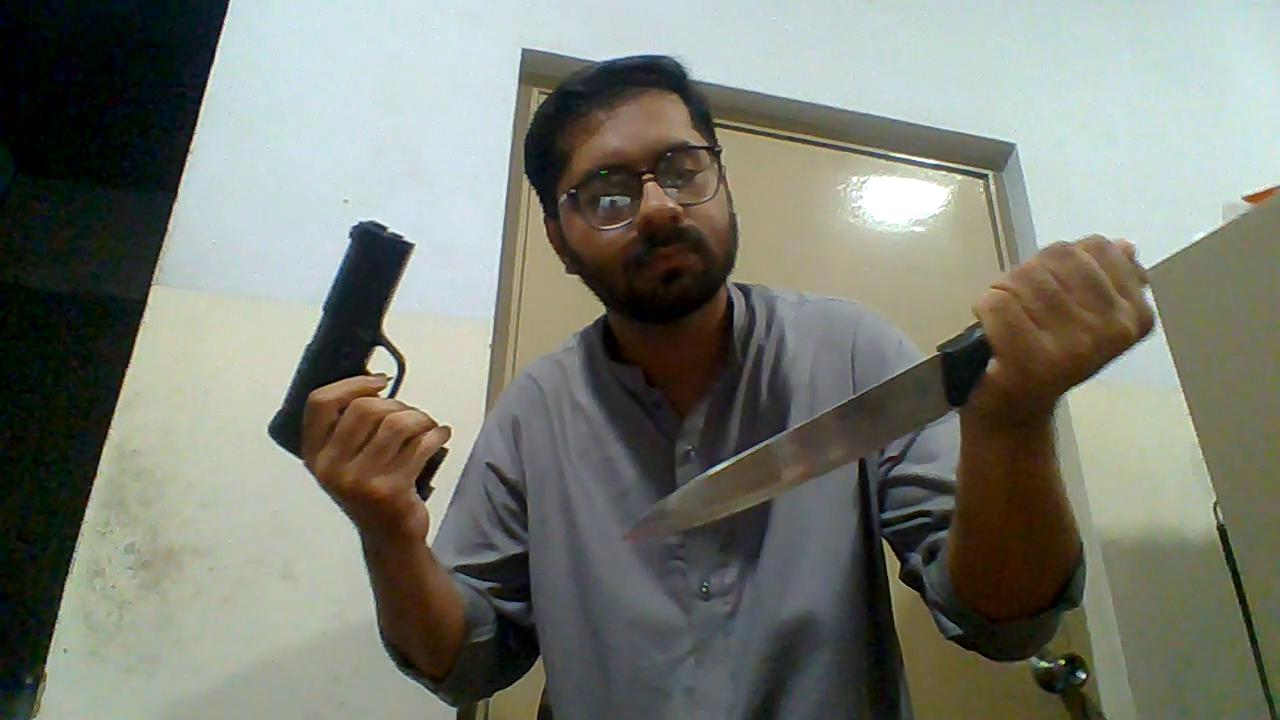criminal: (264, 53, 1158, 720)
weapon: (620, 320, 1002, 545), (264, 217, 453, 507)
